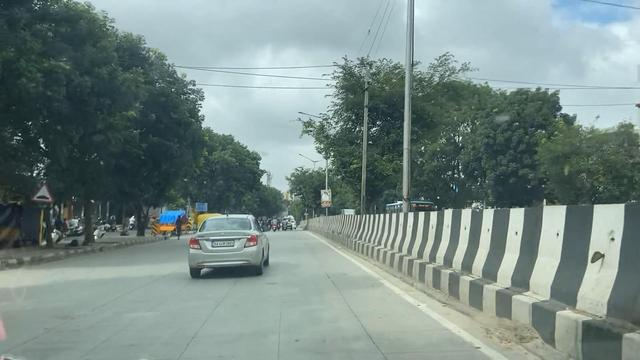LMV: (184, 206, 274, 275)
